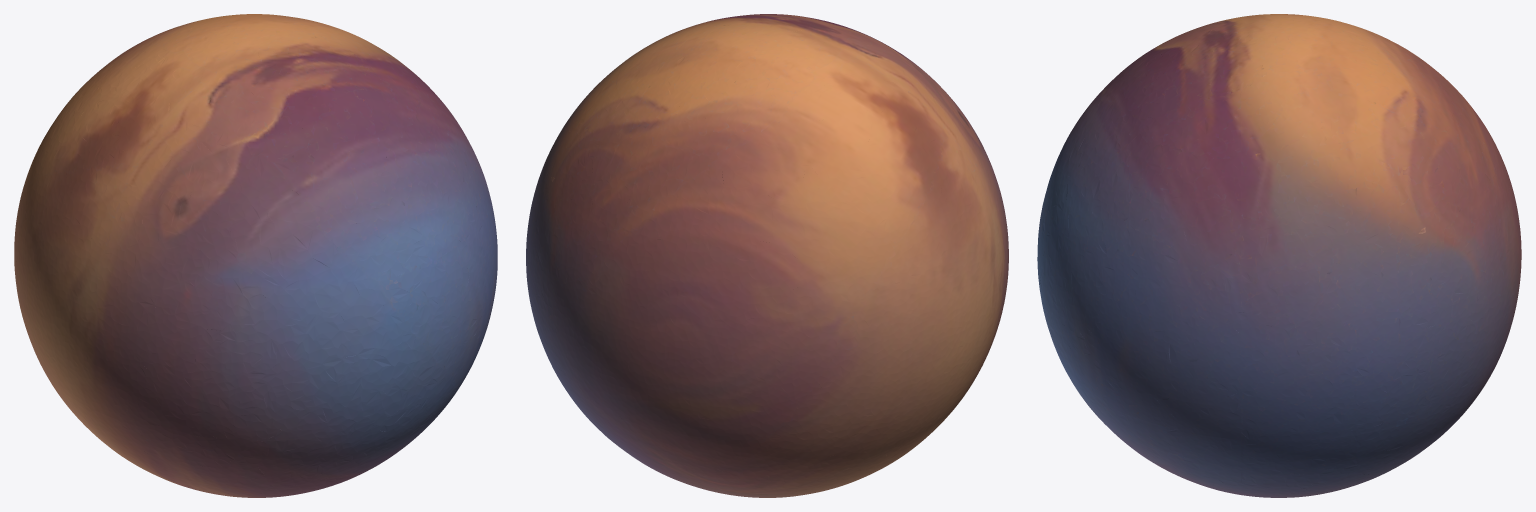
The model's file is planet_3.glb.
3 renders of one model, left to right at view 1: azimuth 30°, elevation 25°; view 2: azimuth 150°, elevation 25°; view 3: azimuth 270°, elevation 25°, orthographic.
Parts seen in each view (by area): view 1: geometry_0; view 2: geometry_0; view 3: geometry_0.
Part boxes in pixels (<box>): geometry_0: <box>14,14,497,497</box>; geometry_0: <box>526,14,1008,497</box>; geometry_0: <box>1037,14,1521,497</box>.
Bounding box in the file's own units: 0.2478 × 0.2486 × 0.2487.
1 material, 1 textured.
